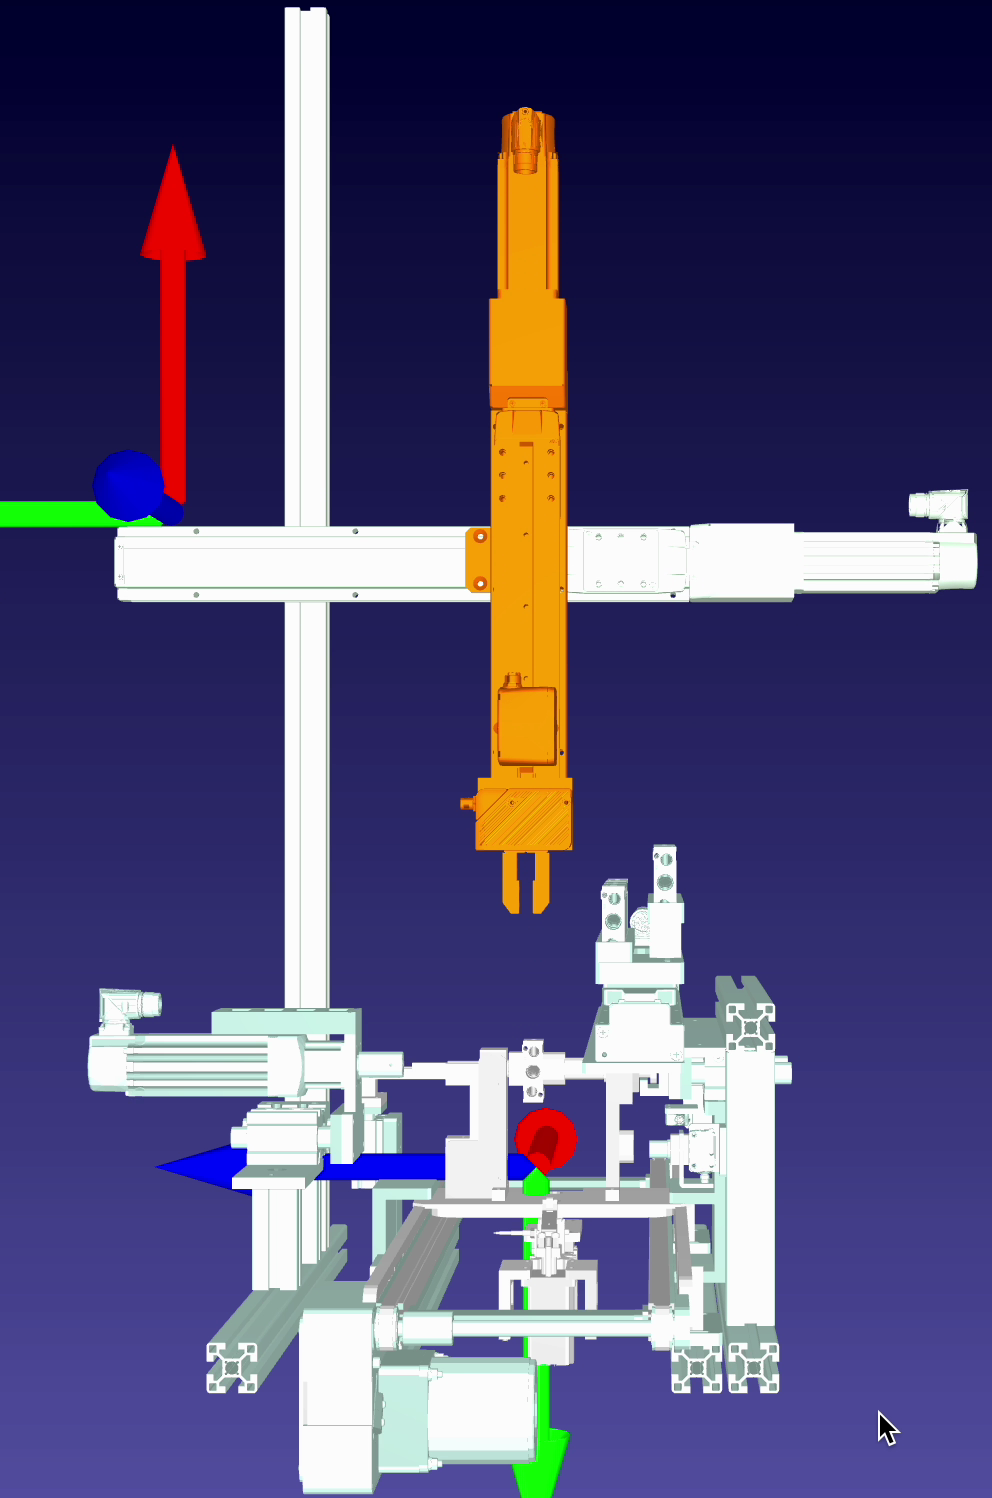Gripper: (451, 769, 588, 916)
